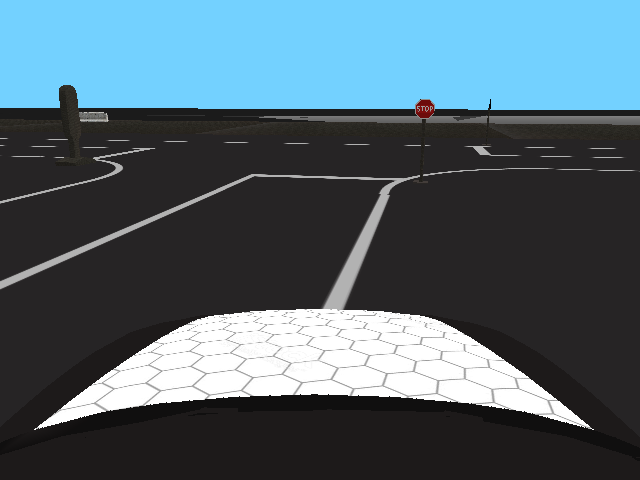stop: (415, 99, 435, 119)
